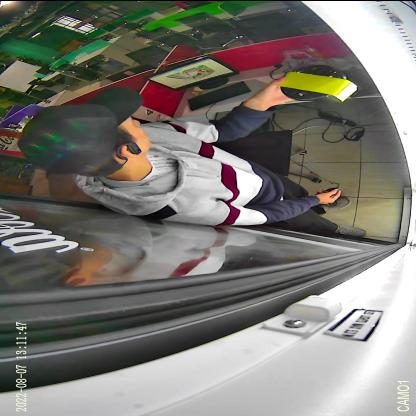yellow: (277, 63, 359, 102)
